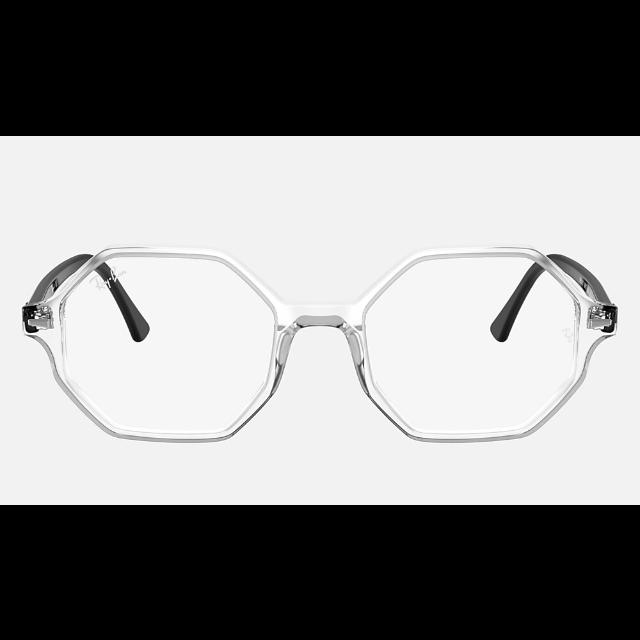glasses: (22, 246, 618, 442)
